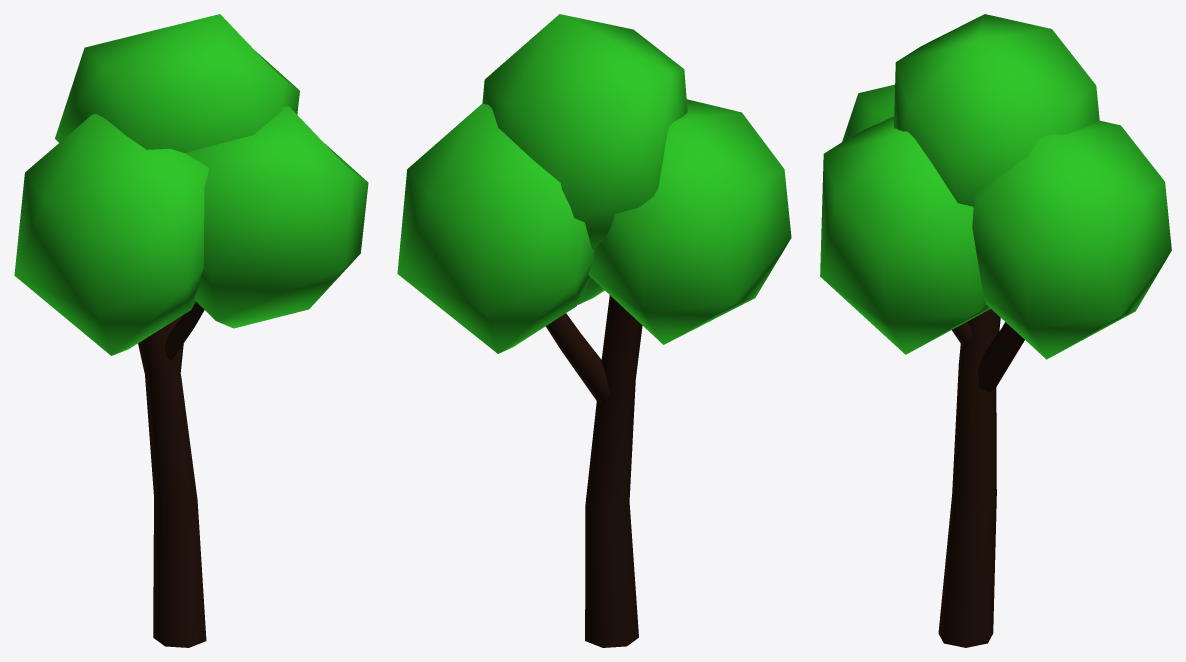
Rendered from Tree_2.FBX.
3 views of the same model, side by side, from view 1: azimuth 30°, elevation 25°; view 2: azimuth 150°, elevation 25°; view 3: azimuth 270°, elevation 25° (orthographic).
Parts seen in each view (by area): view 1: Cylinder004; view 2: Cylinder004; view 3: Cylinder004.
Boxes of the visible parts, box(x1,y1,x2,y2) form: Cylinder004: box(14, 14, 368, 647); Cylinder004: box(397, 14, 791, 647); Cylinder004: box(820, 14, 1171, 647).
Size of the model in its own units: 62.83 by 121 by 62.62.
